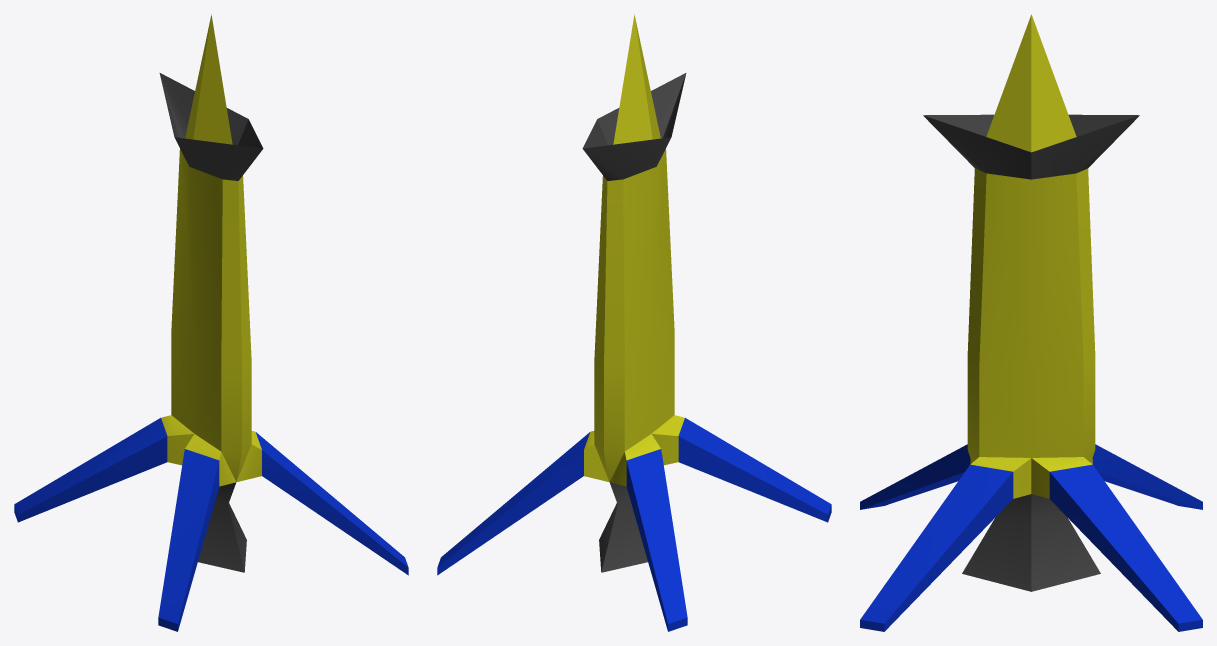
Rendered from boatmissile.obj.
3 renders of one model, left to right at view 1: azimuth 30°, elevation 25°; view 2: azimuth 150°, elevation 25°; view 3: azimuth 270°, elevation 25°, orthographic. The views are drawn at different scales.
Visible parts, largest first — view 1: PaperBoatShip; view 2: PaperBoatShip; view 3: PaperBoatShip.
Boxes of the visible parts, bbox=[...] form: PaperBoatShip: bbox=[14, 14, 408, 631]; PaperBoatShip: bbox=[437, 14, 831, 631]; PaperBoatShip: bbox=[860, 14, 1202, 631].
Size of the model in its own units: 6.64 by 13.76 by 7.64.
